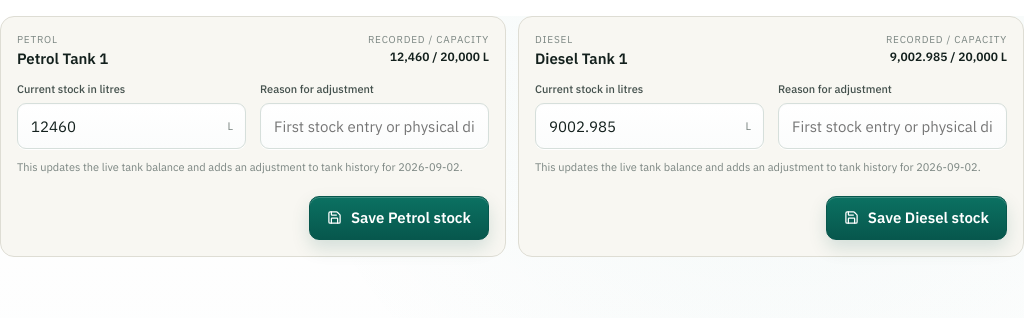
Scenario: TankStockEditor › lets the owner enter and revise each tank's current stock
The width and height of the screenshot is (1024, 318).
Expected: the text "Petrol Tank 1" is shown, left=17, top=49, right=108, bottom=68
Expected: the text "Diesel Tank 1" is shown, left=535, top=49, right=628, bottom=68
Replace the text in the number field named "Petrol current stock" with "15000" at (132,126), box left=17, top=103, right=246, bottom=149
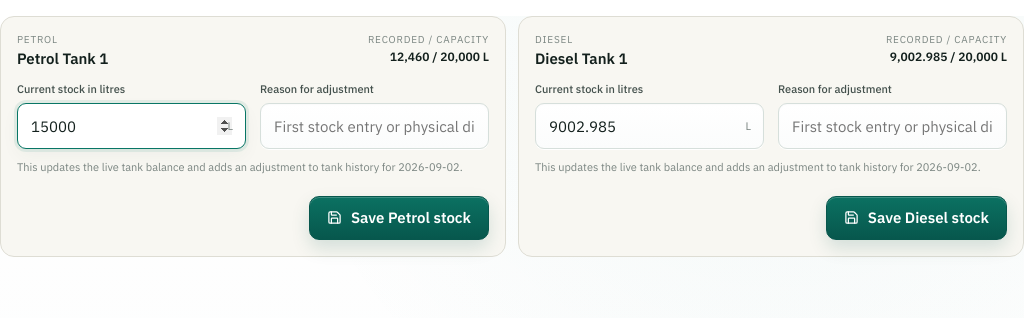
Type "Opening physical dip" into the field named "Petrol adjustment reason" at (374,126), box left=260, top=103, right=489, bottom=149
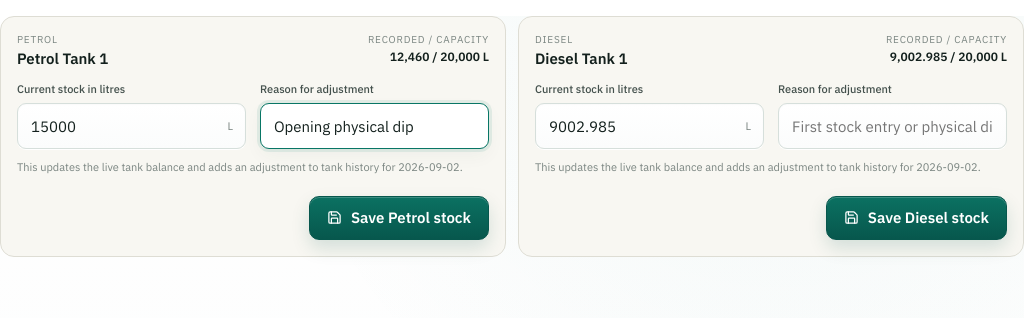
Click the button "Save Petrol stock" at (399,218), box left=309, top=196, right=489, bottom=240
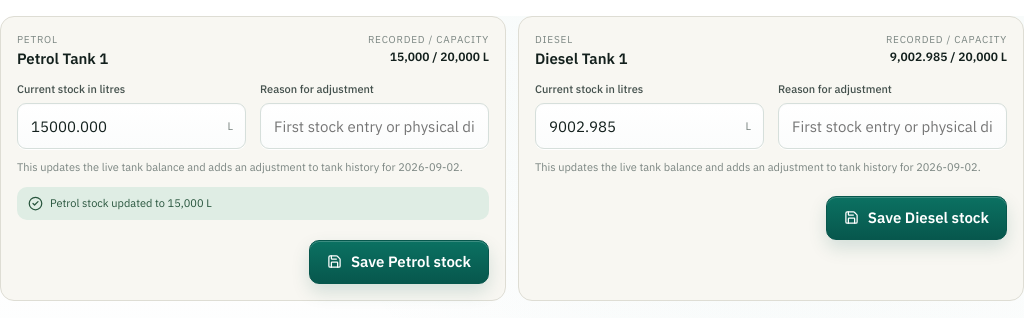
Now the text "Petrol stock updated to 15,000 L" is shown, box left=17, top=186, right=489, bottom=220
